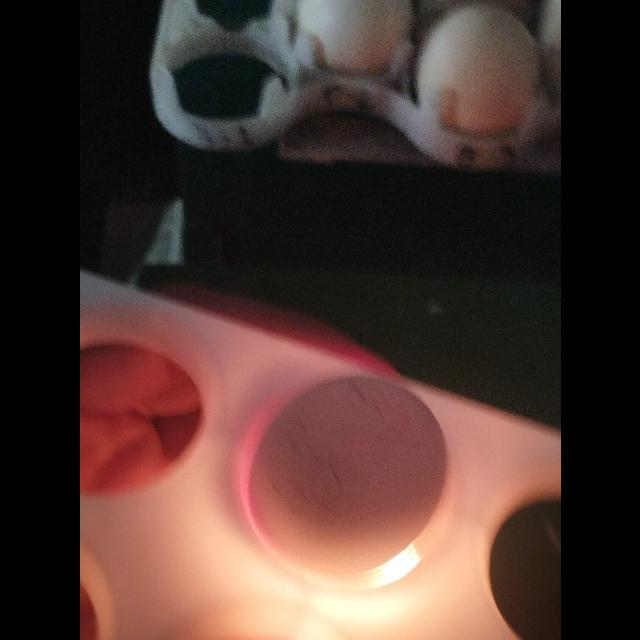Fertile: (243, 371, 451, 584)
